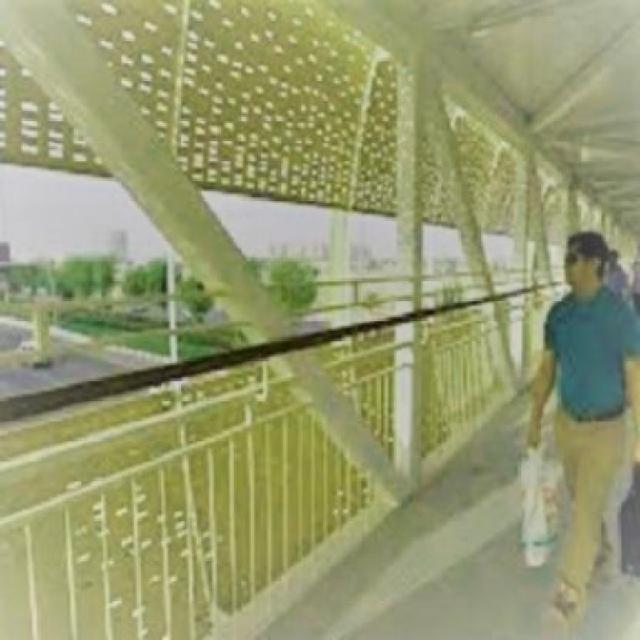Person: (518, 227, 638, 625)
